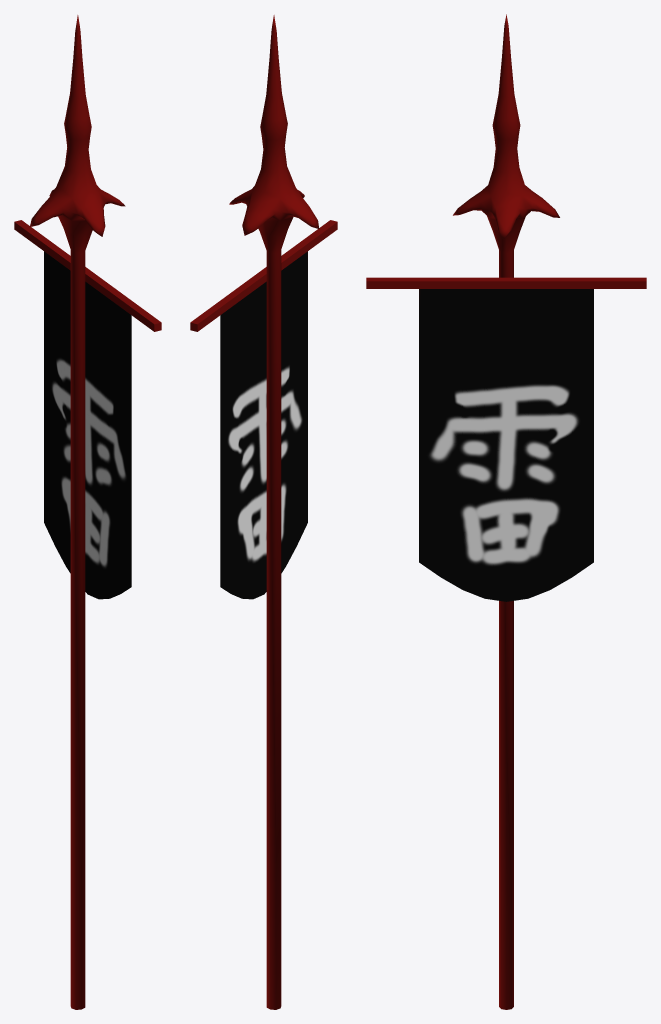
Rendered from Flag.fbx.
3 renders of one model, left to right at view 1: azimuth 30°, elevation 25°; view 2: azimuth 150°, elevation 25°; view 3: azimuth 270°, elevation 25°, orthographic.
Visible parts, largest first — view 1: Cube.002, Cube.001; view 2: Cube.002, Cube.001; view 3: Cube.002, Cube.001.
Part boxes in pixels (box(x1,y1,x2,y2)): Cube.002: box(44, 251, 131, 599); Cube.001: box(14, 15, 161, 1009); Cube.002: box(220, 251, 307, 599); Cube.001: box(190, 15, 337, 1009); Cube.002: box(419, 289, 593, 601); Cube.001: box(366, 14, 646, 1009).
Bounding box in the file's own units: 76.86 × 780 × 200.
